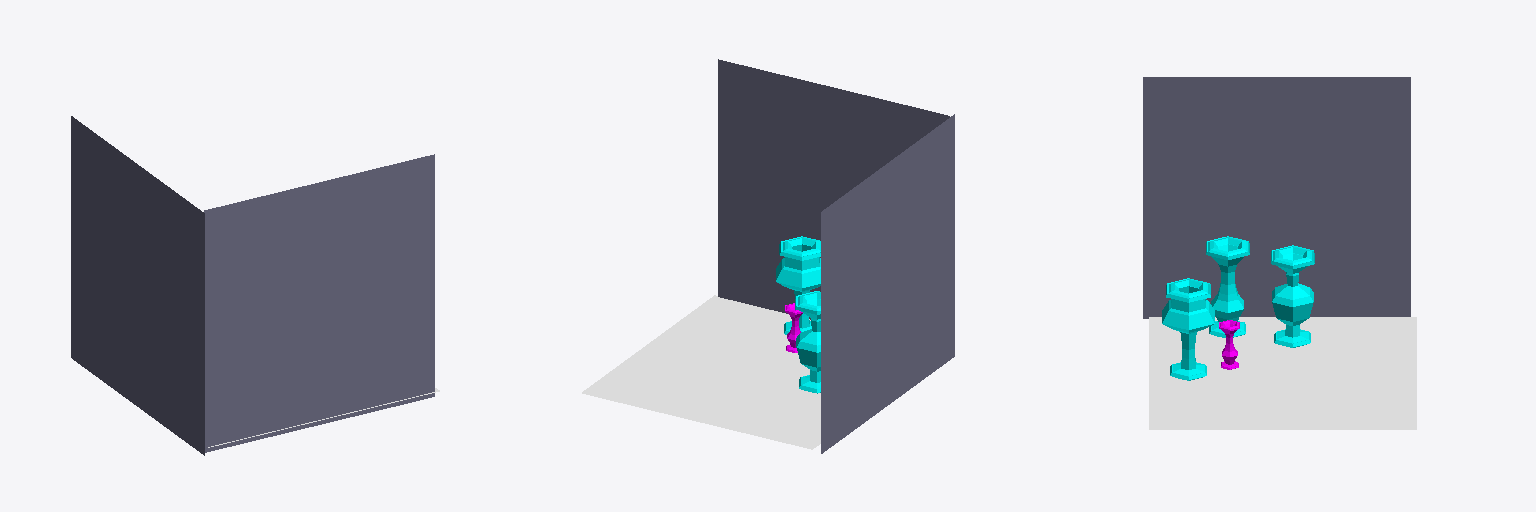
The model's file is vase.obj.
3 views of the same model, side by side, from view 1: azimuth 30°, elevation 25°; view 2: azimuth 150°, elevation 25°; view 3: azimuth 270°, elevation 25° (orthographic).
Parts seen in each view (by area): view 1: pPlane3, pPlane2; view 2: pPlane2, pPlane3, pPlane1, revolvedSurface1, revolvedSurface2; view 3: pPlane2, pPlane1, revolvedSurface1, revolvedSurface2, revolvedSurface3, revolvedSurface4.
Part boxes in pixels (x1,y1,x2,y2): pPlane3: (204, 154, 434, 452); pPlane2: (71, 116, 204, 455); pPlane2: (821, 114, 954, 453); pPlane3: (718, 59, 949, 319); pPlane1: (582, 295, 820, 449); revolvedSurface1: (776, 236, 820, 334); revolvedSurface2: (795, 291, 820, 393); pPlane2: (1143, 77, 1410, 318); pPlane1: (1149, 317, 1416, 429); revolvedSurface1: (1162, 278, 1214, 380); revolvedSurface2: (1271, 245, 1314, 347); revolvedSurface3: (1206, 236, 1249, 337); revolvedSurface4: (1219, 320, 1239, 369).
Size of the model in its own units: 28.83 by 28.09 by 28.66.